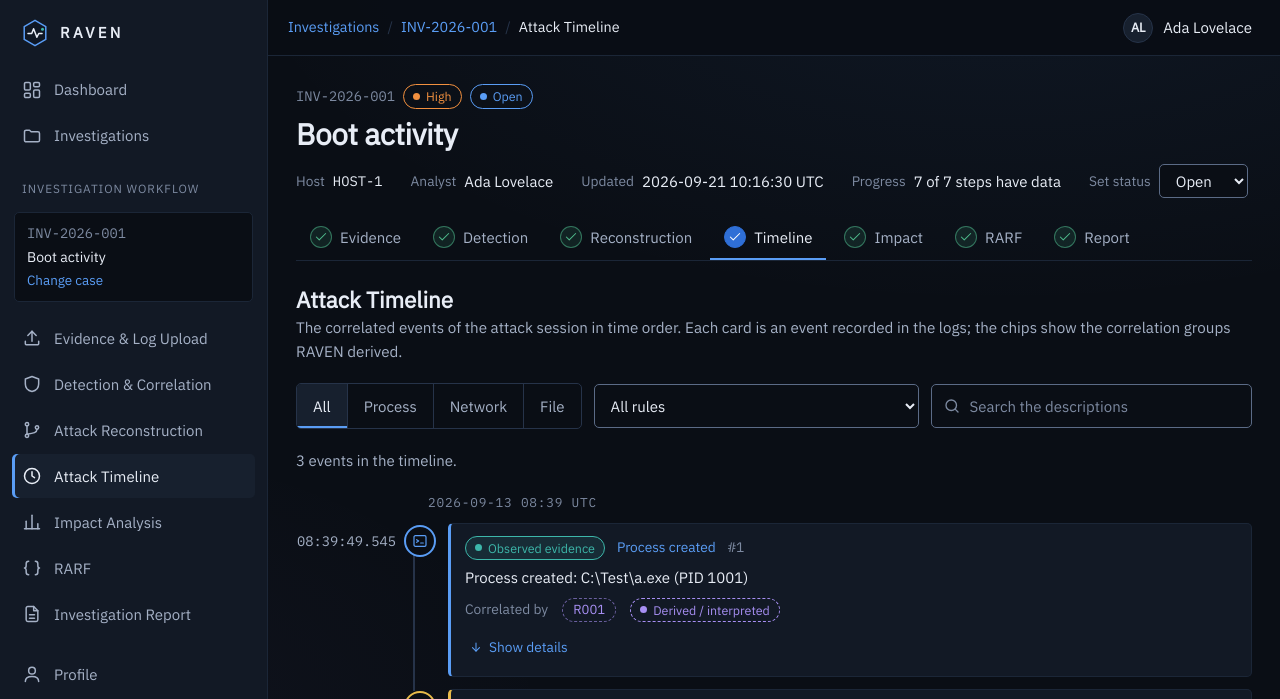
Timeline: filters › says when no event matches, and clears the filters
Expected: the heading "Attack Timeline" is shown, [296, 285, 453, 314]
Expected: the text "3 events in the timeline." is shown, [296, 452, 457, 470]
Click the button "File". click: x=552, y=406
box: [524, 384, 581, 428]
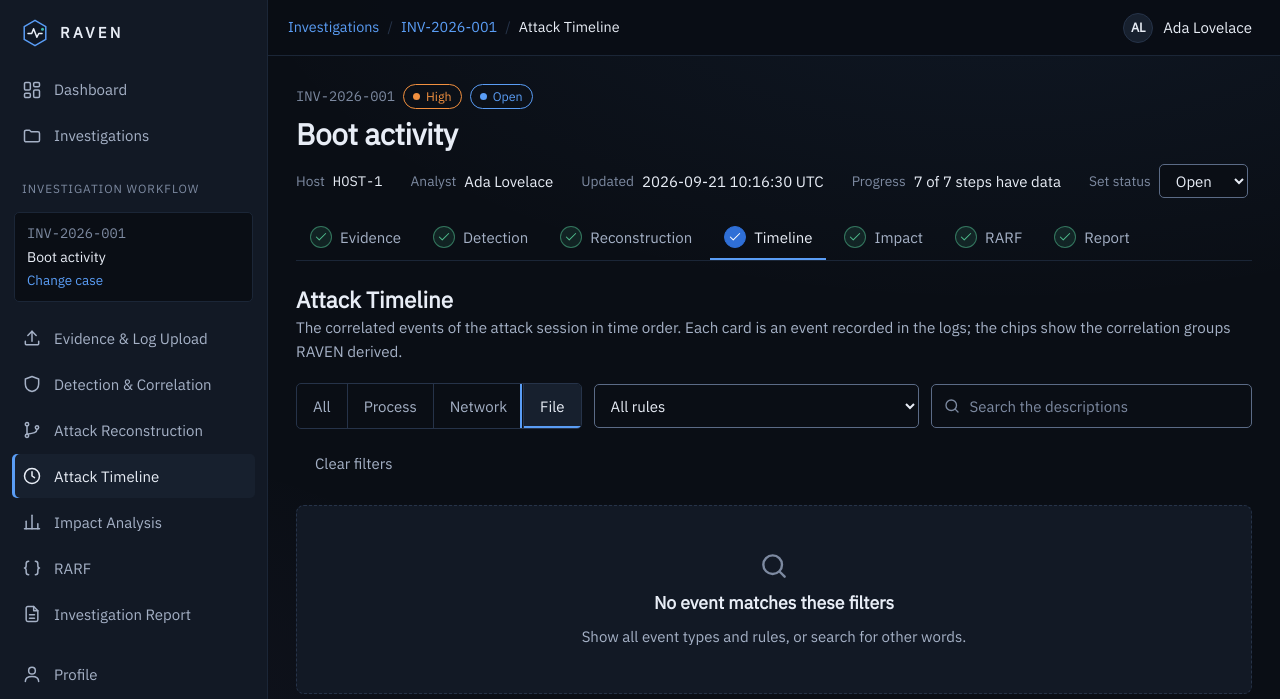
Expected: the heading "No event matches these filters" is shown, [654, 592, 894, 615]
Click the button "Clear filters". click: x=354, y=464
box: [296, 442, 412, 486]
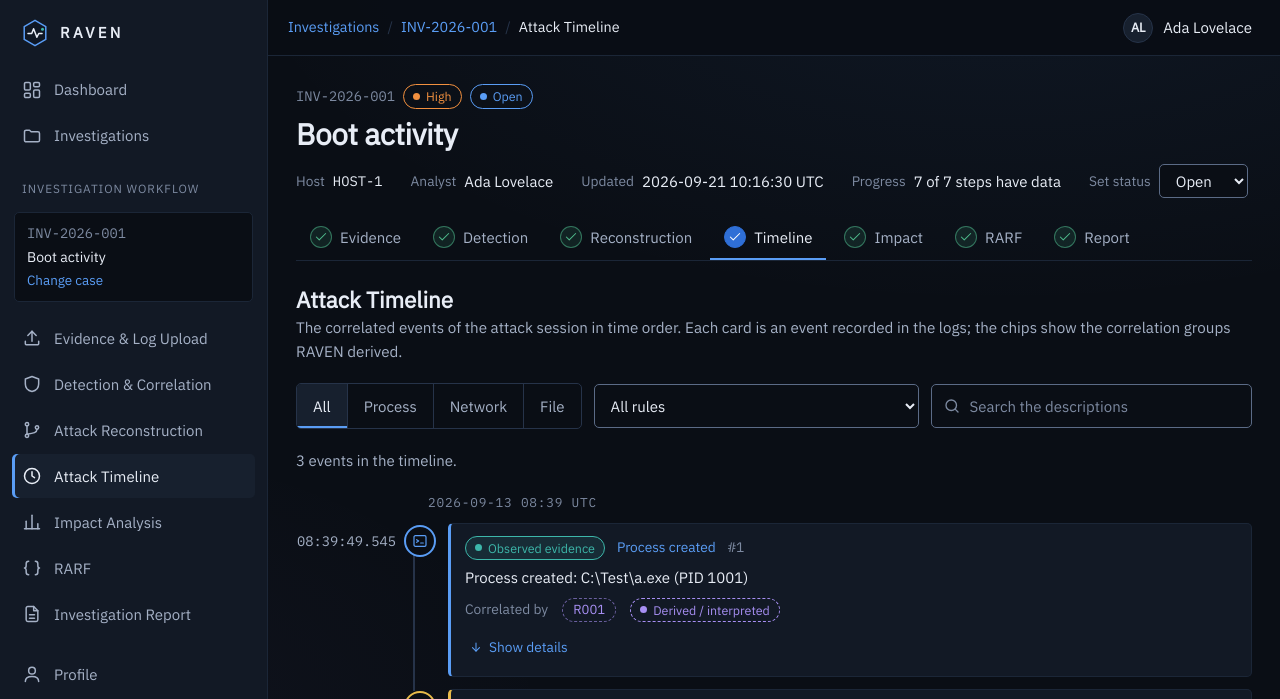
Expected: the text "3 events in the timeline." is shown, [296, 452, 457, 470]
